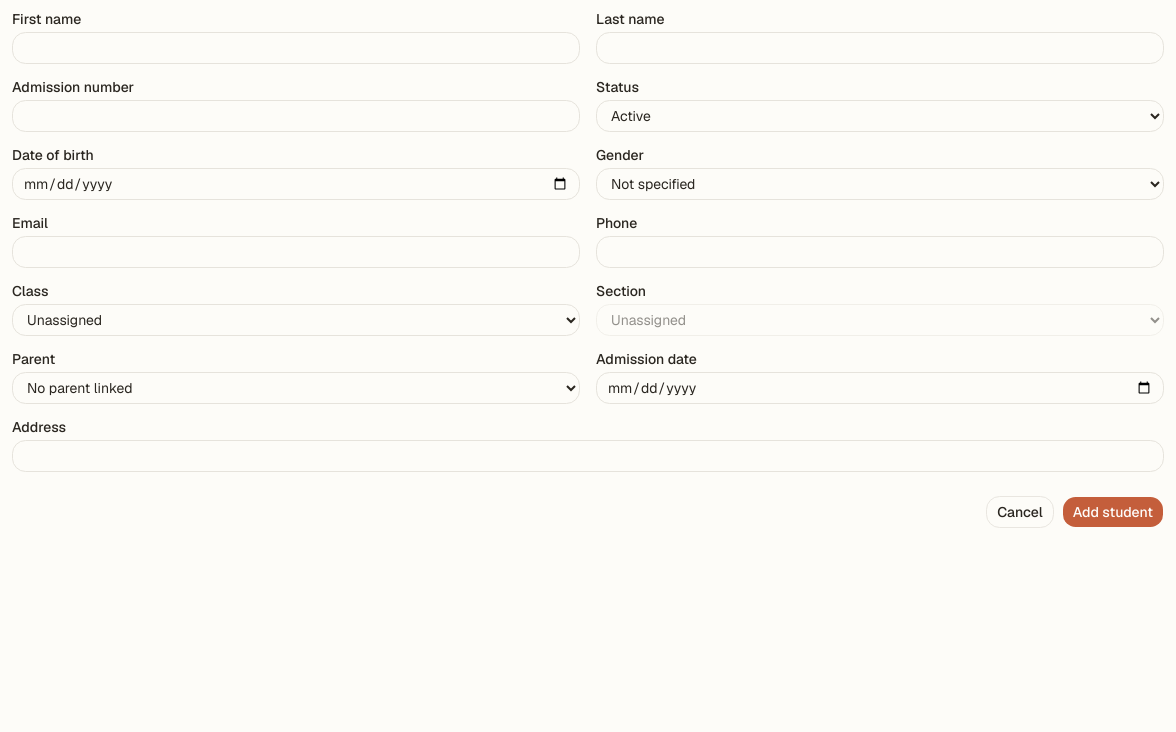
Test: StudentForm › shows validation errors and does not submit an empty form
Click the button "Add student". click: coordinates (1113, 512)
box: [1062,496,1164,528]
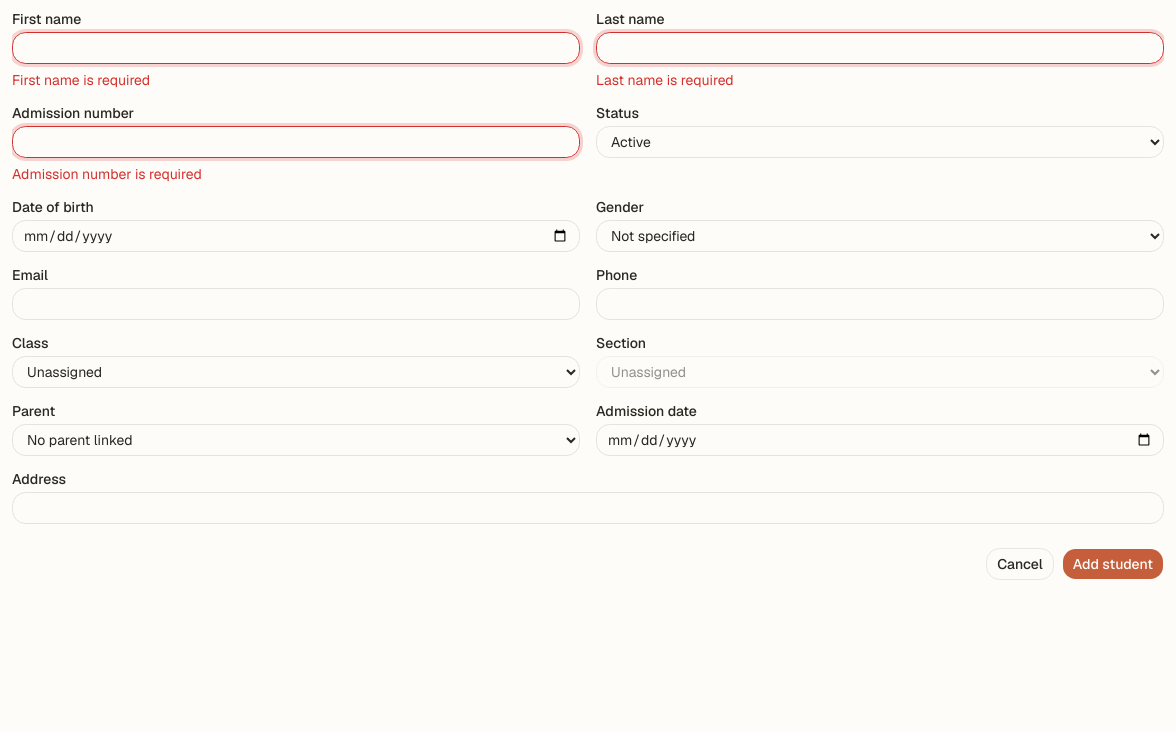
expect the text "First name is required" is shown: met, box [12,71,150,89]
expect the text "Admission number is required" is shown: met, box [12,165,202,183]
